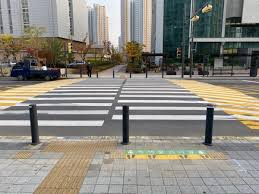guide_blocks: (41, 153, 93, 194), (45, 140, 116, 152), (209, 150, 225, 160), (14, 151, 30, 159)
